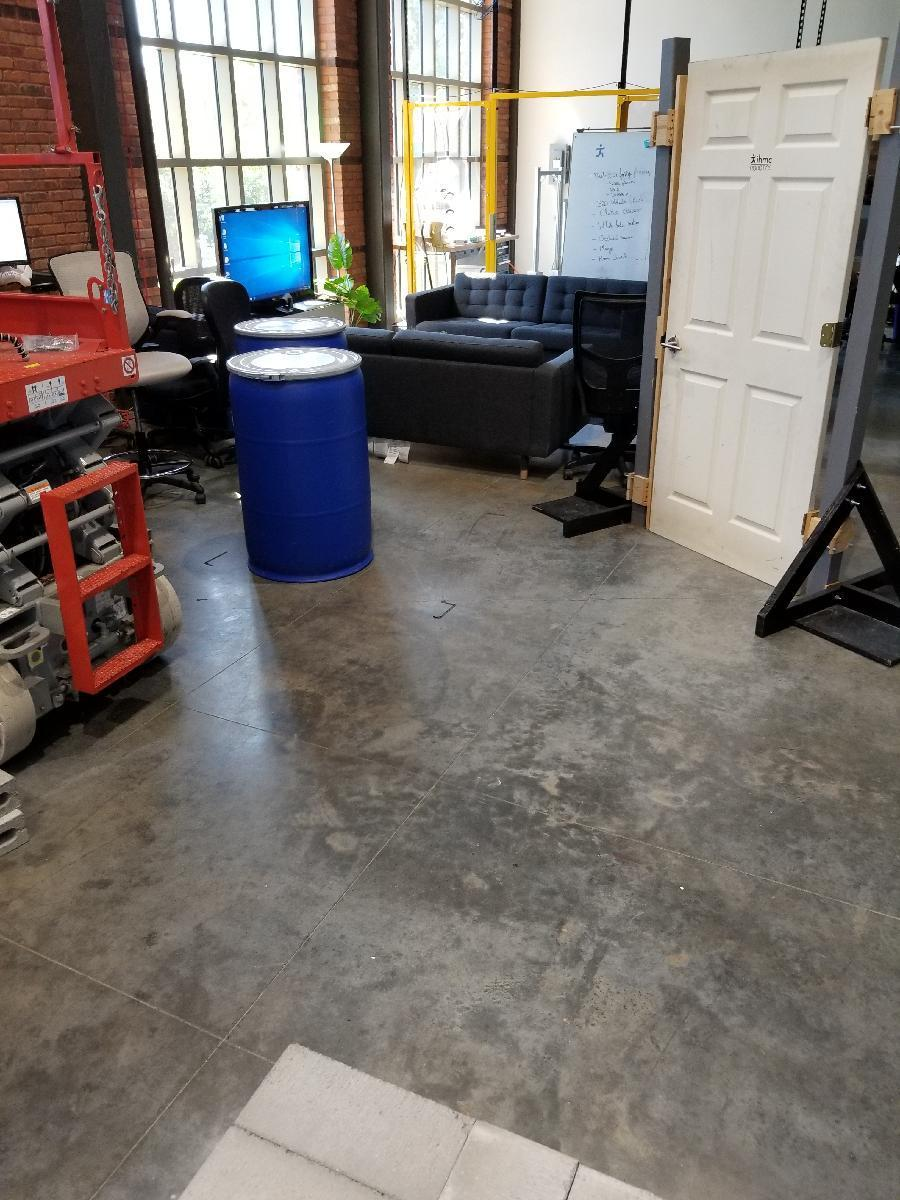door: (666, 60, 827, 578)
handle: (656, 333, 693, 368)
